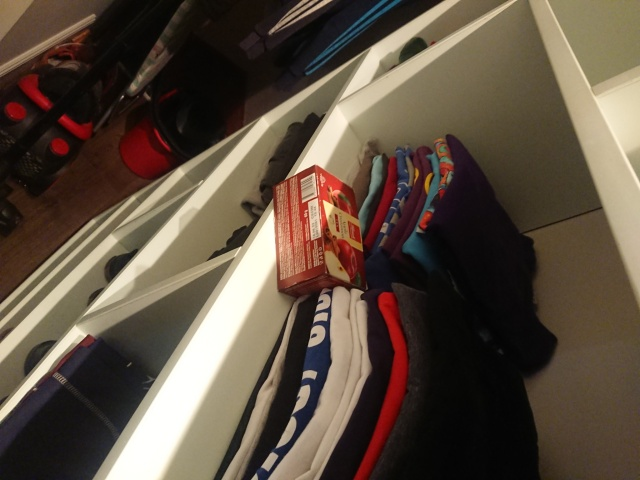Franck Apple Cinnamon Tea 60g: (270, 162, 367, 302)
